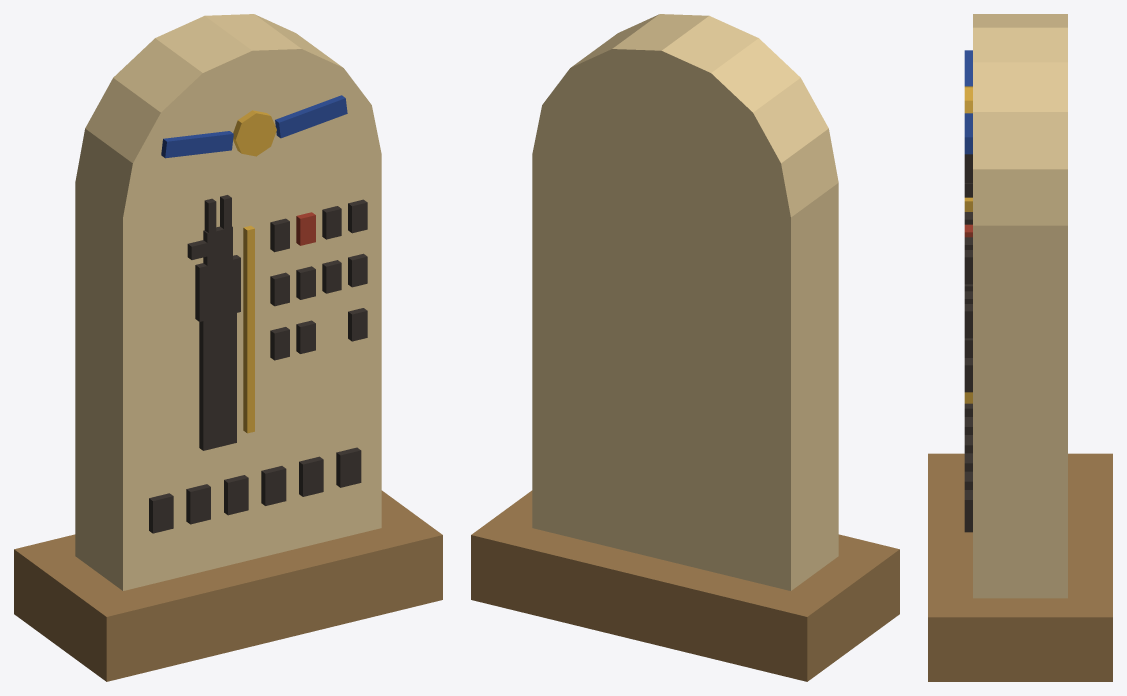
File: desert_stele.glb
The picture shows the model from 3 angles, left to right: view 1: azimuth 30°, elevation 25°; view 2: azimuth 150°, elevation 25°; view 3: azimuth 270°, elevation 25°; orthographic projection.
Parts seen in each view (by area): view 1: desert_stele; view 2: desert_stele; view 3: desert_stele.
Part boxes in pixels (bbox=[...]): desert_stele: bbox=[14, 14, 442, 681]; desert_stele: bbox=[471, 14, 899, 681]; desert_stele: bbox=[928, 14, 1112, 681].
Size of the model in its own units: 1.3 by 2.12 by 0.62.
